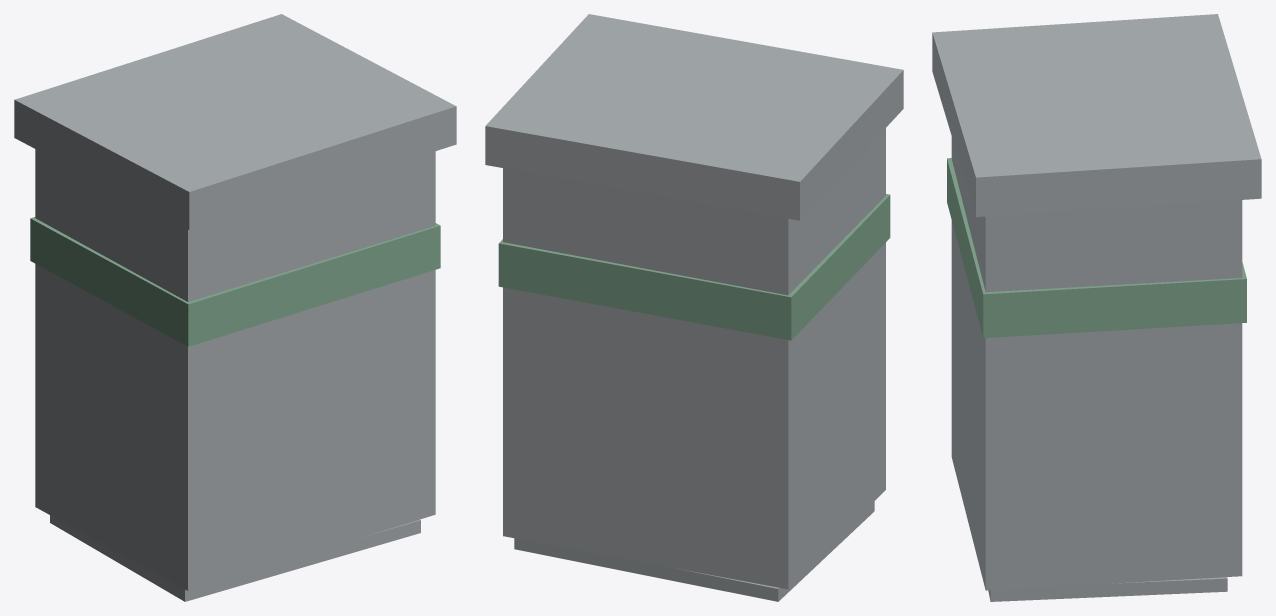
File: recycling-far.glb
3 renders of one model, left to right at view 1: azimuth 30°, elevation 25°; view 2: azimuth 150°, elevation 25°; view 3: azimuth 270°, elevation 25°, orthographic. The views are drawn at different scales.
Parts seen in each view (by area): view 1: recycling-far; view 2: recycling-far; view 3: recycling-far.
Part boxes in pixels (box(x1,y1,x2,y2)): recycling-far: box(14, 14, 456, 601); recycling-far: box(485, 14, 903, 601); recycling-far: box(932, 14, 1261, 601).
Bounding box in the file's own units: 0.8 × 1 × 0.68.
